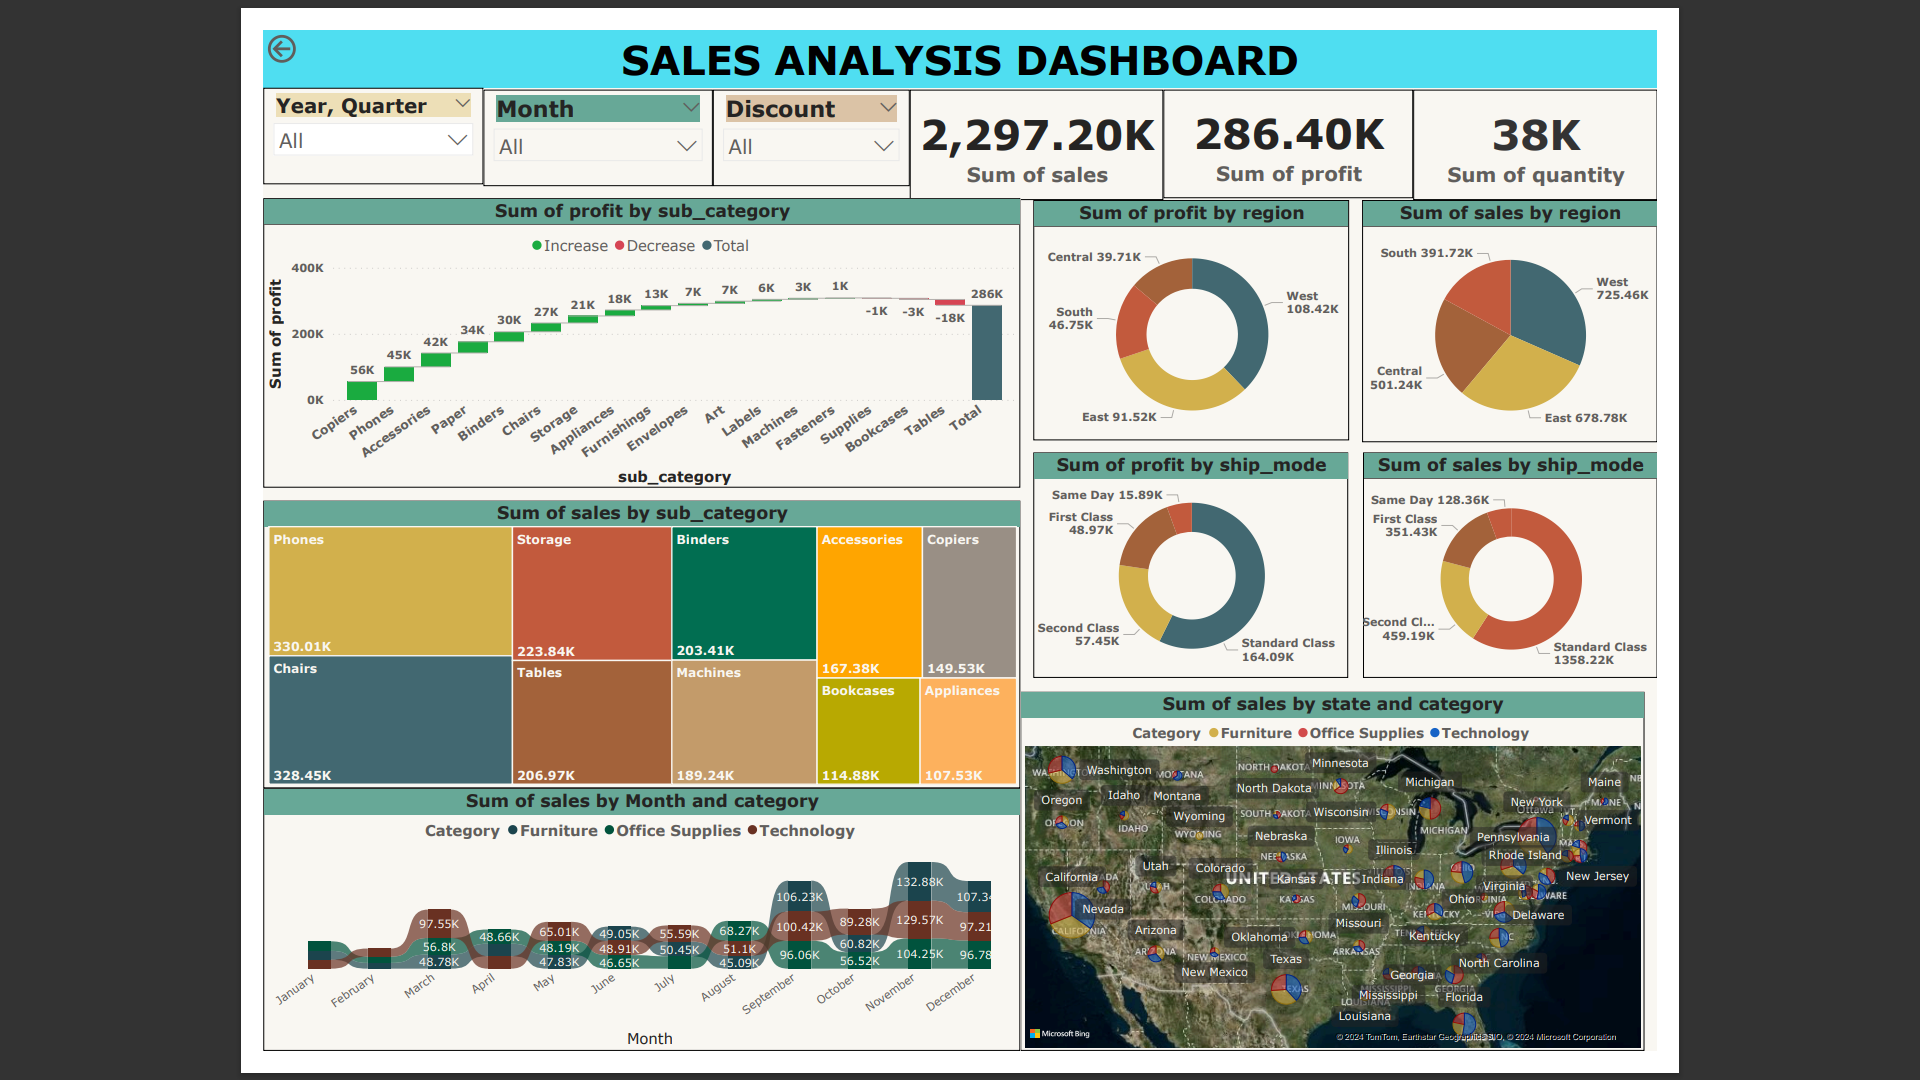

The page's visual inventory and layout, read from the dashboard file:
{"tool":"powerbi","page":{"name":"Page 1","canvas":[1500,1100],"ordinal":0},"visuals":[{"type":"donutChart","fields":{"Y":["Sum(Table1.sales)"],"Category":["Table1.category"]},"box":[1559.4,227.6,241.4,201.8],"z":0},{"type":"card","fields":{"Values":["Sum(Table1.sales)"]},"box":[695.9,63.9,272.8,119.2],"z":1000},{"type":"textbox","box":[0,0,1500.6,62.2],"z":2000},{"type":"card","fields":{"Values":["Sum(Table1.profit)"]},"box":[968.8,63.9,269.4,117.4],"z":3000},{"type":"card","fields":{"Values":["Sum(Table1.quantity)"]},"box":[1238.1,63.9,262.5,119.2],"z":4000},{"type":"map","fields":{"Category":["Table1.state"],"Size":["Sum(Table1.sales)"],"Series":["Table1.category"]},"box":[815.2,712.9,671.9,387.1],"z":5000},{"type":"actionButton","box":[0,0,100,40],"z":6000},{"type":"ribbonChart","fields":{"Category":["Table1.order_date.Variation.Date Hierarchy.Month"],"Y":["Sum(Table1.sales)"],"Series":["Table1.category"]},"box":[0,816.9,815.2,283.1],"z":7000},{"type":"slicer","fields":{"Values":["Table1.order_date.Variation.Date Hierarchy.Year","Table1.order_date.Variation.Date Hierarchy.Quarter"]},"box":[0,62.2,236.6,103.6],"z":8000},{"type":"waterfallChart","fields":{"Category":["Table1.sub_category"],"Y":["Sum(Table1.profit)"]},"box":[0,180.8,815.2,312.1],"z":9000},{"type":"treemap","fields":{"Group":["Table1.sub_category"],"Values":["Sum(Table1.sales)"]},"box":[0,506.5,815.2,310.4],"z":10000},{"type":"donutChart","fields":{"Category":["Table1.region"],"Y":["Sum(Table1.profit)"]},"box":[828.9,183,340.2,259],"z":11000},{"type":"pieChart","fields":{"Category":["Table1.region"],"Y":["Sum(Table1.sales)"]},"box":[1182.9,183,317.7,260.8],"z":12000},{"type":"slicer","fields":{"Values":["Table1.discount"]},"box":[483.5,63.9,212.4,103.6],"z":13000},{"type":"slicer","fields":{"Values":["Table1.order_date.Variation.Date Hierarchy.Month"]},"box":[236.6,63.9,246.9,103.6],"z":14000},{"type":"donutChart","fields":{"Category":["Table1.ship_mode"],"Y":["Sum(Table1.profit)"]},"box":[828.8,455.3,339.4,242.2],"z":15000},{"type":"donutChart","fields":{"Y":["Sum(Table1.sales)"],"Category":["Table1.ship_mode"]},"box":[1183.6,455.3,317.2,242.2],"z":16000}]}

Visuals, with their boxes on the page's 1500x1100 design canvas (x1, y1, x2, y2). These are canvas units, not pixel positions in the 1920x1080 screenshot, which may show the page scaled, cropped or inside an application window:
donutChart - Sum(Table1.sales) x Table1.category: pyautogui.locateOnScreen(1559, 228, 1801, 429)
card - Sum(Table1.sales): pyautogui.locateOnScreen(696, 64, 969, 183)
textbox: pyautogui.locateOnScreen(0, 0, 1501, 62)
card - Sum(Table1.profit): pyautogui.locateOnScreen(969, 64, 1238, 181)
card - Sum(Table1.quantity): pyautogui.locateOnScreen(1238, 64, 1501, 183)
map - Table1.state x Sum(Table1.sales): pyautogui.locateOnScreen(815, 713, 1487, 1100)
actionButton: pyautogui.locateOnScreen(0, 0, 100, 40)
ribbonChart - Table1.order_date.Variation.Date Hierarchy.Month x Sum(Table1.sales): pyautogui.locateOnScreen(0, 817, 815, 1100)
slicer - Table1.order_date.Variation.Date Hierarchy.Year x Table1.order_date.Variation.Date Hierarchy.Quarter: pyautogui.locateOnScreen(0, 62, 237, 166)
waterfallChart - Table1.sub_category x Sum(Table1.profit): pyautogui.locateOnScreen(0, 181, 815, 493)
treemap - Table1.sub_category x Sum(Table1.sales): pyautogui.locateOnScreen(0, 506, 815, 817)
donutChart - Table1.region x Sum(Table1.profit): pyautogui.locateOnScreen(829, 183, 1169, 442)
pieChart - Table1.region x Sum(Table1.sales): pyautogui.locateOnScreen(1183, 183, 1501, 444)
slicer - Table1.discount: pyautogui.locateOnScreen(484, 64, 696, 168)
slicer - Table1.order_date.Variation.Date Hierarchy.Month: pyautogui.locateOnScreen(237, 64, 484, 168)
donutChart - Table1.ship_mode x Sum(Table1.profit): pyautogui.locateOnScreen(829, 455, 1168, 698)
donutChart - Sum(Table1.sales) x Table1.ship_mode: pyautogui.locateOnScreen(1184, 455, 1501, 698)
